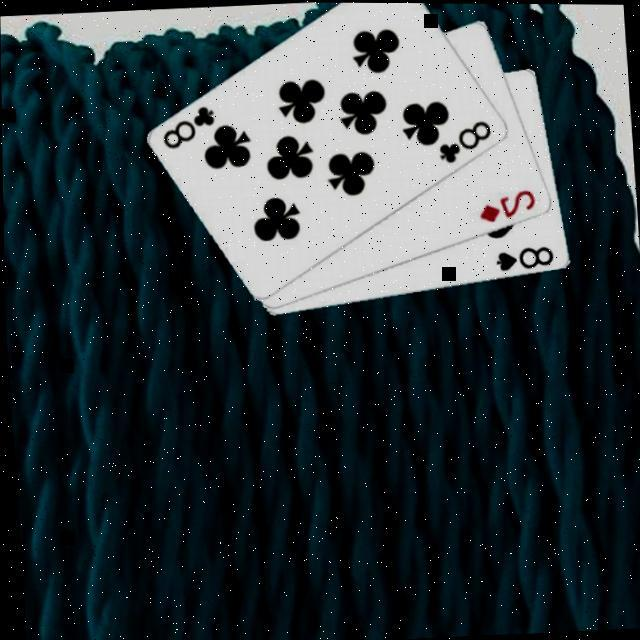2D: (473, 185, 537, 224)
8C: (432, 115, 494, 166), (156, 101, 218, 152)
8S: (490, 241, 555, 272)
